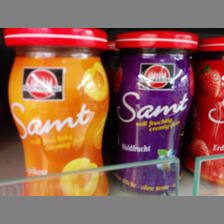jam: (4, 28, 110, 195), (113, 33, 200, 191)
